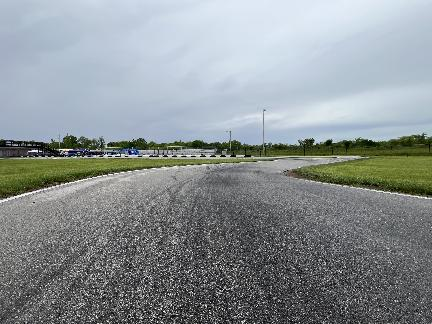Grass: (0, 159, 268, 198), (294, 157, 431, 195)
Lane: (0, 158, 431, 323)
